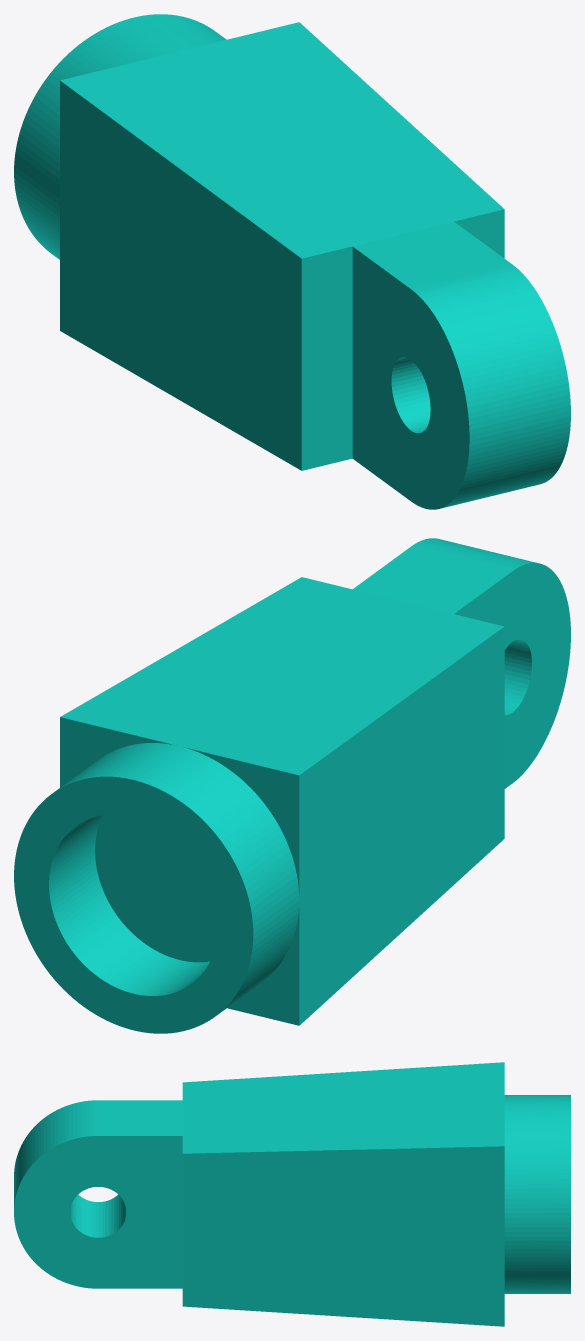
3 views of the same model, one above another, from view 1: azimuth 30°, elevation 25°; view 2: azimuth 150°, elevation 25°; view 3: azimuth 270°, elevation 25° (orthographic). The views are drawn at different scales.
Parts seen in each view (by area): view 1: node; view 2: node; view 3: node.
Part boxes in pixels (left/top/right/bottom): node: left=14, top=14, right=570, bottom=509; node: left=14, top=538, right=570, bottom=1033; node: left=14, top=1062, right=570, bottom=1326.
Bounding box in the file's own units: 0.0618 × 0.0618 × 0.173.
